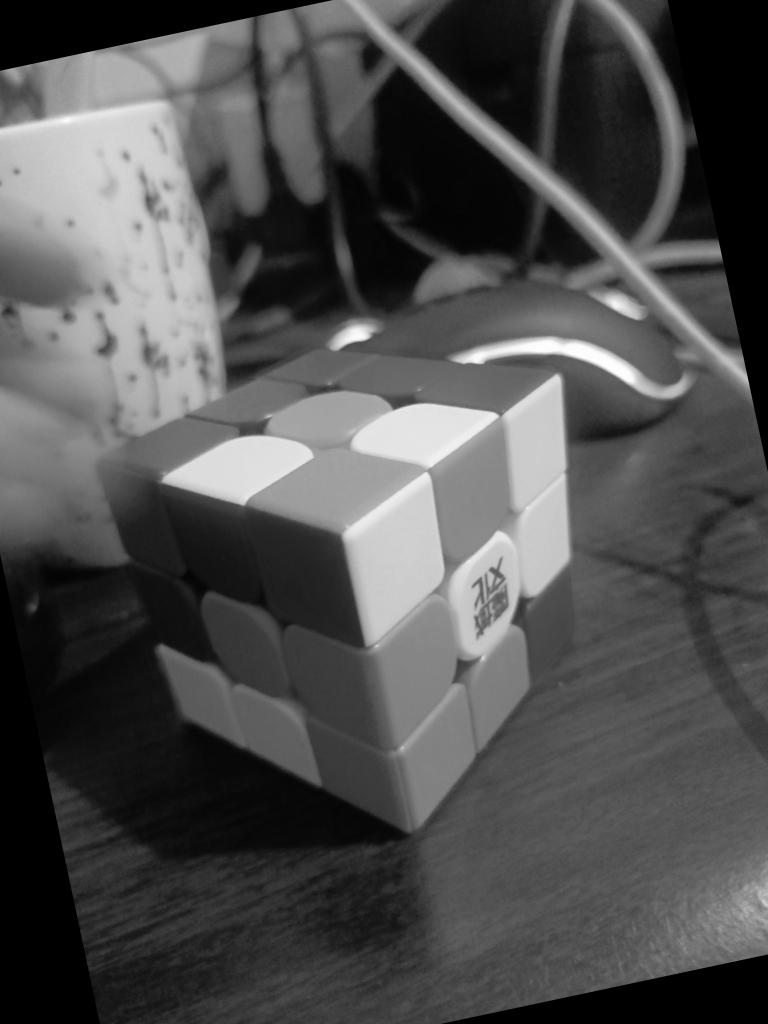rubik: (80, 294, 650, 881)
